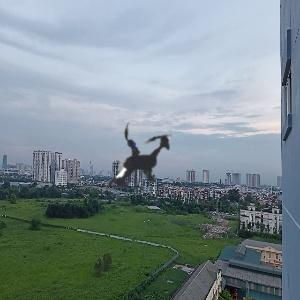drone: (64, 90, 207, 233)
